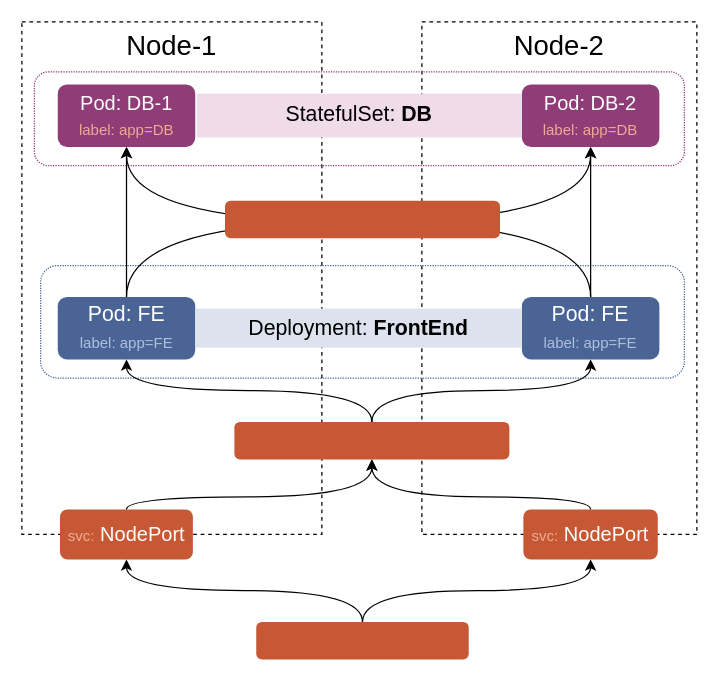
Image size: 719x681. Some labels were removed from this diagram. The shapes that lost their labels are listed below. From the top down, each one's centre as x and y in pixels, then its label:
At (361,219): "svc: Headless".
At (371,440): "svc: ClusterIP".
At (362,640): "svc: LoadBalancer".
